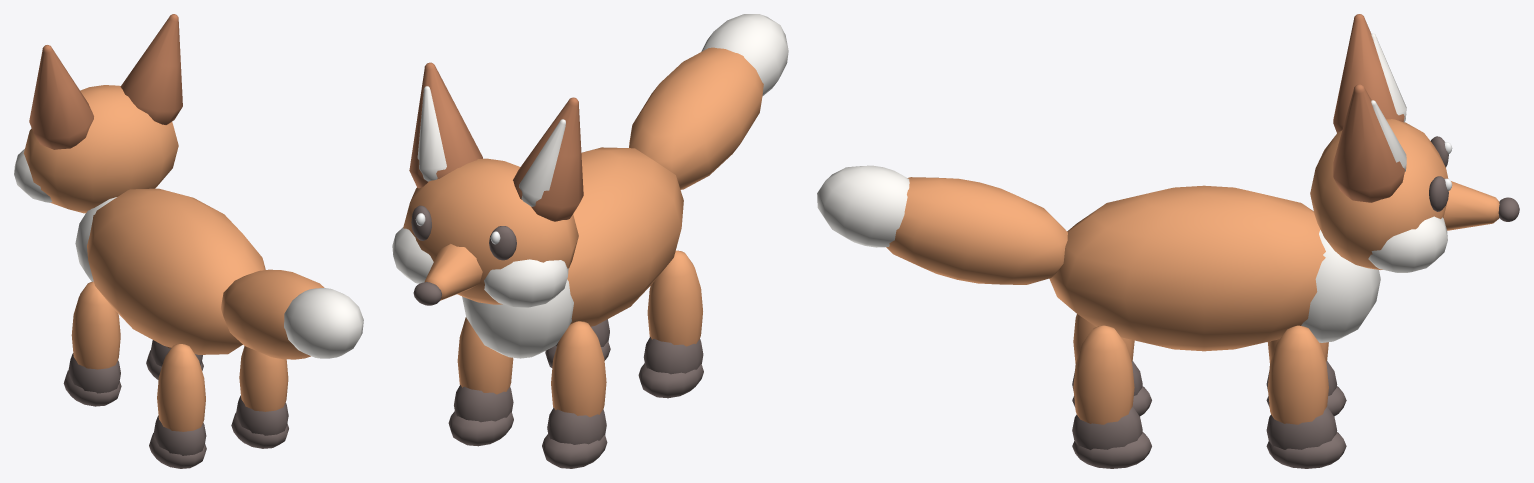
The model's file is hewan2_rubah.fbx.
3 renders of one model, left to right at view 1: azimuth 30°, elevation 25°; view 2: azimuth 150°, elevation 25°; view 3: azimuth 270°, elevation 25°, orthographic. The views are drawn at different scales.
Visible parts, largest first — view 1: Body__Body, Head__Body, Tail__Body, Tail__Light, EarL__Stripe, EarR__Stripe, LegBL__Body, LegFL__Body, LegBR__Body, LegFL__Dark, LegBR__Dark, LegBL__Dark (+3 smaller); view 2: Body__Body, Head__Body, Tail__Body, Body__Light, Head__Light, LegFL__Body, LegBL__Body, EarL__Stripe, Tail__Light, EarR__Stripe, LegFR__Dark, LegBL__Dark (+6 smaller); view 3: Body__Body, Tail__Body, Head__Body, Tail__Light, EarR__Stripe, LegBR__Body, LegFR__Body, Body__Light, LegFR__Dark, LegBR__Dark, EarL__Stripe, Head__Light (+2 smaller).
Part boxes in pixels (<box>): Body__Body: <box>87,188,265,354</box>; Head__Body: <box>23,85,178,213</box>; Tail__Body: <box>221,269,324,359</box>; Tail__Light: <box>284,288,363,358</box>; EarL__Stripe: <box>29,45,93,149</box>; EarR__Stripe: <box>120,14,182,124</box>; LegBL__Body: <box>157,344,205,431</box>; LegFL__Body: <box>71,281,120,369</box>; LegBR__Body: <box>239,346,288,411</box>; LegFL__Dark: <box>63,353,121,406</box>; LegBR__Dark: <box>231,395,288,448</box>; LegBL__Dark: <box>149,415,206,468</box>; Body__Body: <box>567,147,683,326</box>; Head__Body: <box>403,158,578,304</box>; Tail__Body: <box>629,47,763,189</box>; Body__Light: <box>462,279,573,358</box>; Head__Light: <box>392,227,568,307</box>; LegFL__Body: <box>551,321,606,417</box>; LegBL__Body: <box>647,250,702,346</box>; EarL__Stripe: <box>513,97,583,221</box>; Tail__Light: <box>701,14,788,96</box>; EarR__Stripe: <box>409,62,482,188</box>; LegFR__Dark: <box>448,385,513,446</box>; LegBL__Dark: <box>638,337,703,398</box>; Body__Body: <box>1049,185,1325,351</box>; Tail__Body: <box>886,177,1067,284</box>; Head__Body: <box>1310,119,1499,269</box>; Tail__Light: <box>817,165,909,247</box>; EarR__Stripe: <box>1333,84,1404,202</box>; LegBR__Body: <box>1073,325,1134,424</box>; LegFR__Body: <box>1267,325,1328,424</box>; Body__Light: <box>1301,230,1380,342</box>; LegFR__Dark: <box>1266,406,1346,468</box>; LegBR__Dark: <box>1072,406,1151,468</box>; EarL__Stripe: <box>1333,14,1404,132</box>; Head__Light: <box>1368,216,1447,272</box>.
Size of the model in its own units: 1.62 by 3.68 by 5.96.
